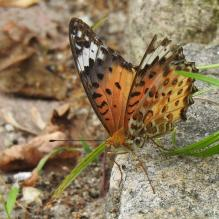Argyreus hyperbius: (49, 12, 203, 192)
butterfly: (49, 14, 203, 194)
